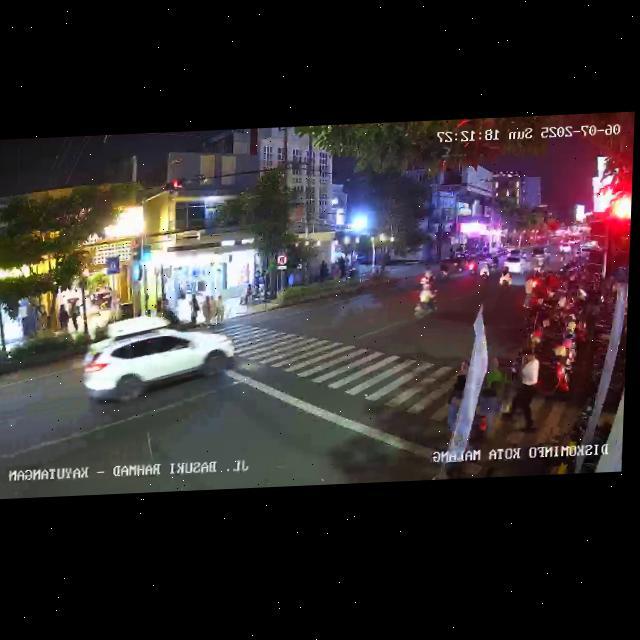car: (80, 323, 236, 408), (502, 252, 532, 275)
motorcycle: (411, 277, 439, 322), (497, 264, 513, 292), (478, 258, 492, 282)
person: (507, 344, 542, 438), (444, 358, 468, 464), (58, 301, 70, 334), (70, 299, 80, 337), (216, 292, 227, 323), (190, 293, 200, 325), (334, 254, 345, 281), (202, 294, 210, 326), (210, 294, 218, 326), (320, 258, 329, 280)
